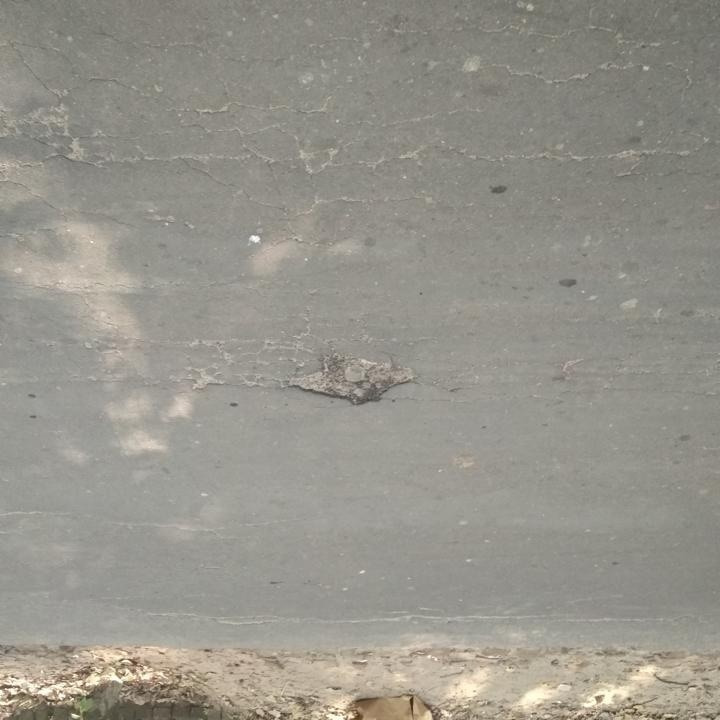pothole: (281, 351, 419, 408)
